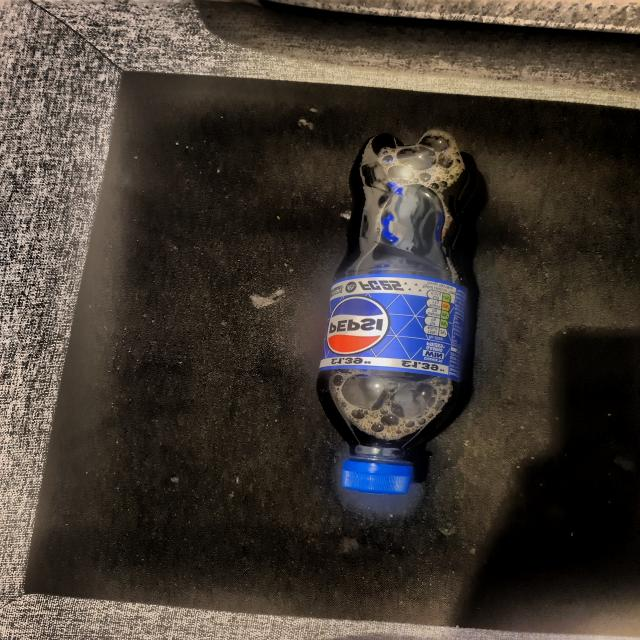pepsi-bottle: (318, 125, 488, 497)
